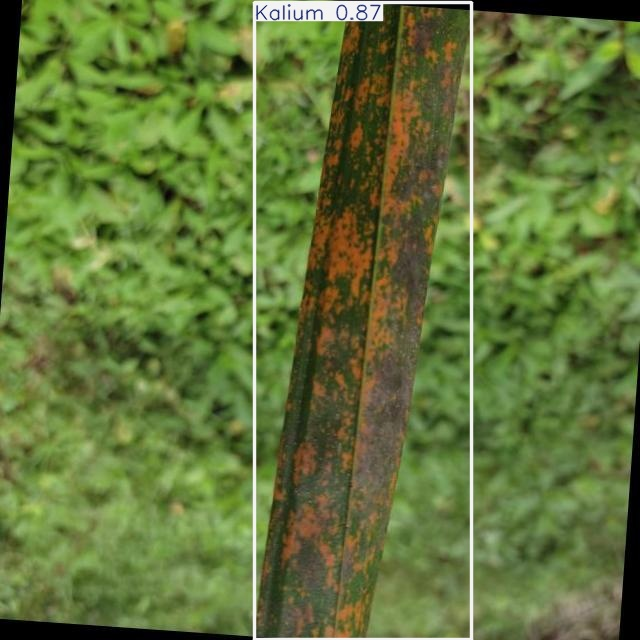Kalium: (255, 3, 471, 640)
